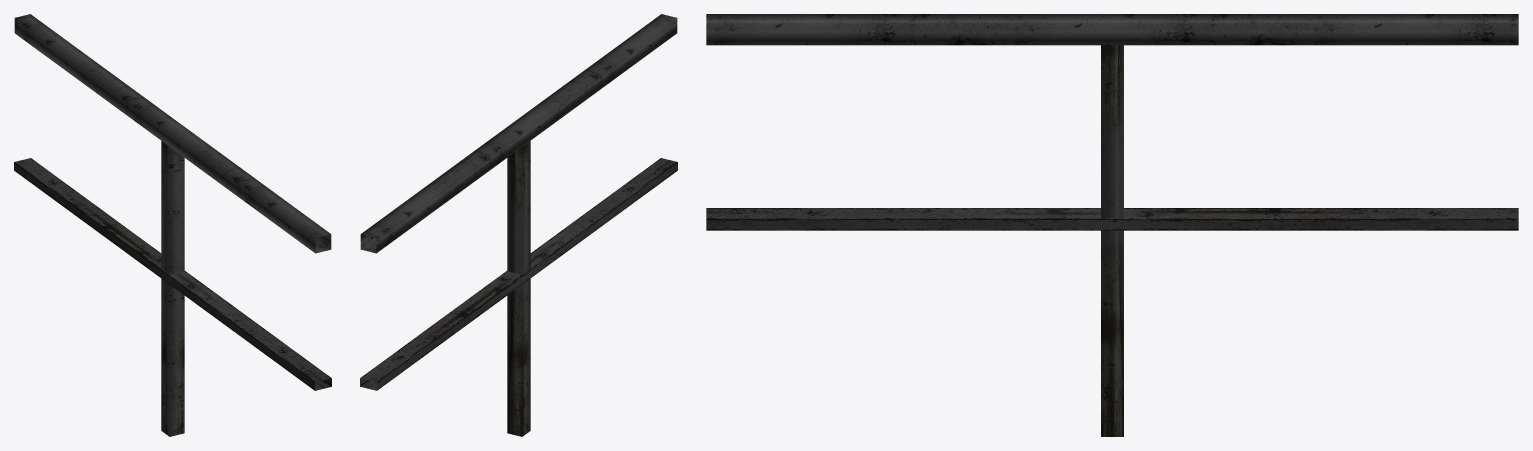
File: cs_handrail_64_double_lod1.glb
3 views of the same model, side by side, from view 1: azimuth 30°, elevation 25°; view 2: azimuth 150°, elevation 25°; view 3: azimuth 270°, elevation 25° (orthographic). The views are drawn at different scales.
Parts seen in each view (by area): view 1: surf0; view 2: surf0; view 3: surf0.
Part boxes in pixels (<box>): surf0: <box>14,14,331,436</box>; surf0: <box>360,14,677,436</box>; surf0: <box>706,14,1518,436</box>.
Size of the model in its own units: 2.07 by 35.9 by 64.
